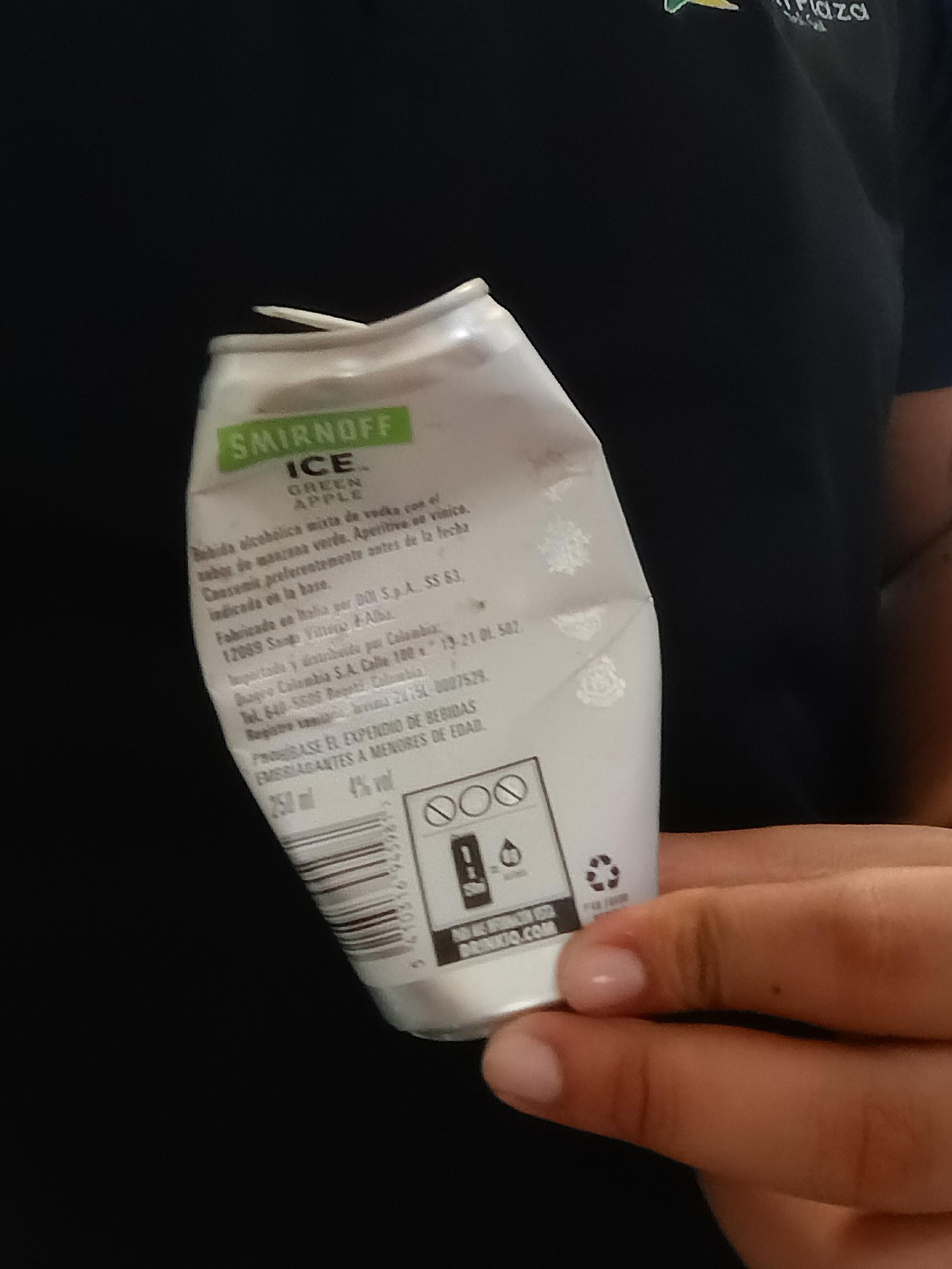Metal: (186, 280, 666, 1039)
